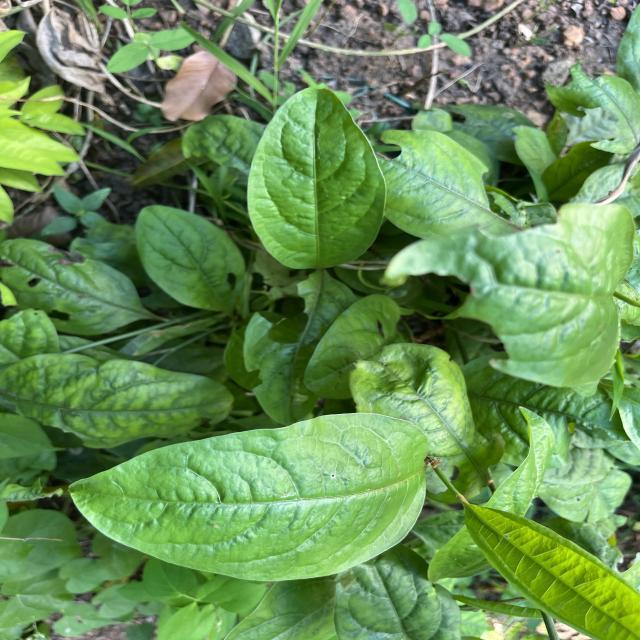Plumbago indica: (61, 407, 433, 589), (246, 82, 390, 274), (0, 351, 238, 452), (132, 203, 248, 317)
